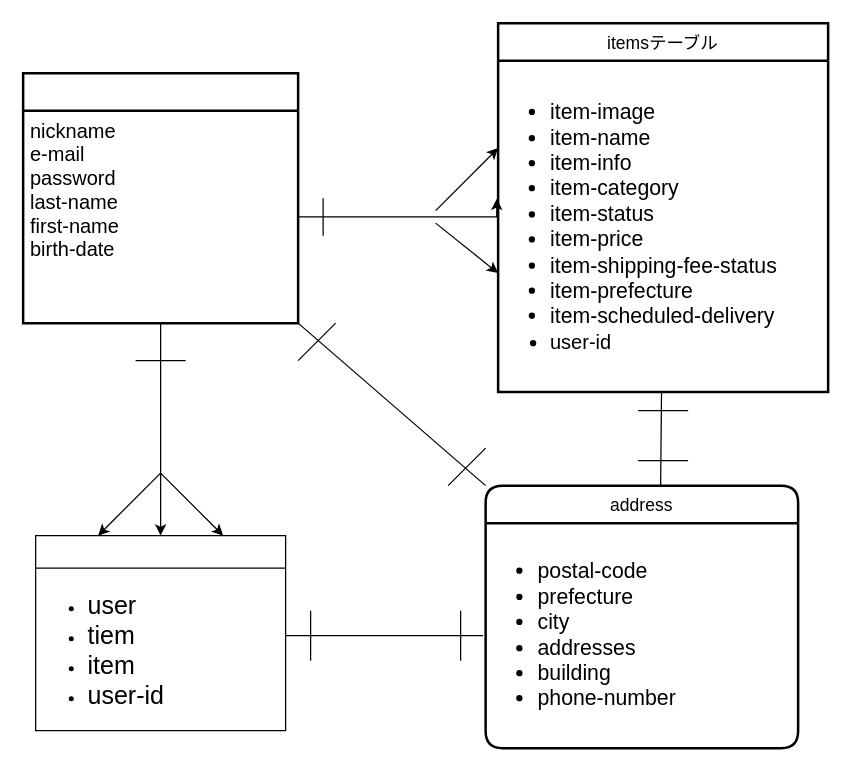
Some shapes in this 850 by 770 pixel diagram are drawn without their labels. Here are the shapes that lost their labels. From the top down, the box of each, then its label:
(21, 71, 299, 324): usersテーブル
(34, 534, 286, 731): credit
